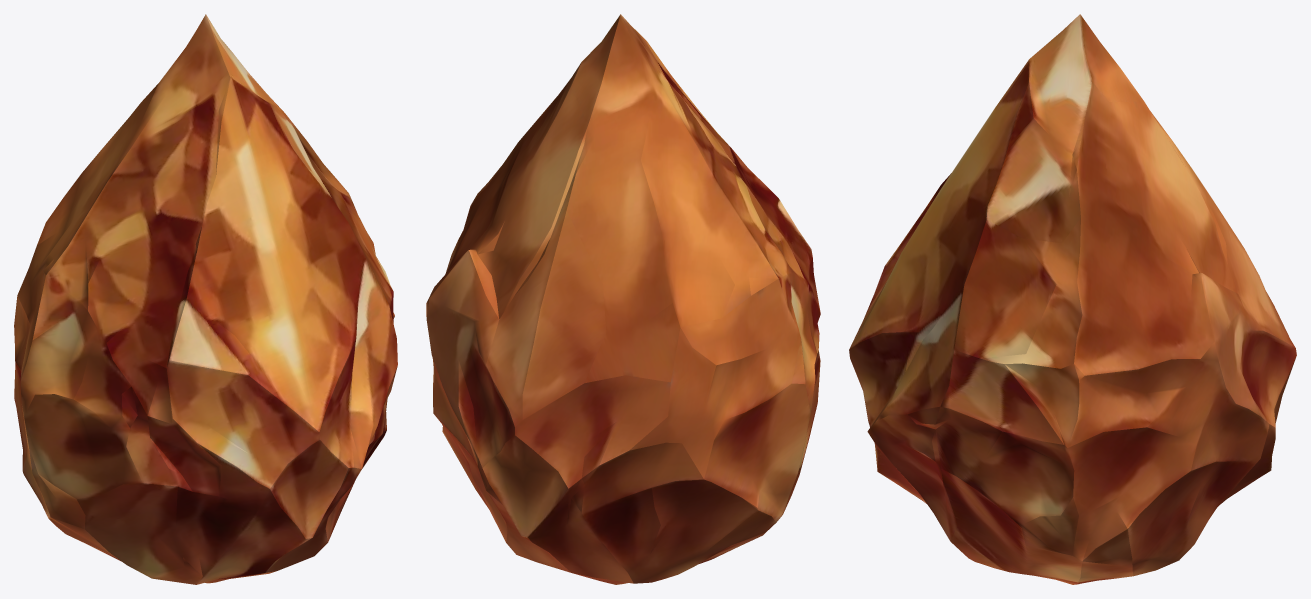
The model's file is m2Ember.glb.
The picture shows the model from 3 angles, left to right: view 1: azimuth 30°, elevation 25°; view 2: azimuth 150°, elevation 25°; view 3: azimuth 270°, elevation 25°; orthographic projection.
Parts seen in each view (by area): view 1: model; view 2: model; view 3: model.
Part boxes in pixels (x1,y1,x2,y2): model: [14, 14, 397, 584]; model: [426, 14, 820, 584]; model: [849, 14, 1296, 584].
Bounding box in the file's own units: 1.29 × 1.9 × 1.35.
Materials: 1 (1 with a texture image).
